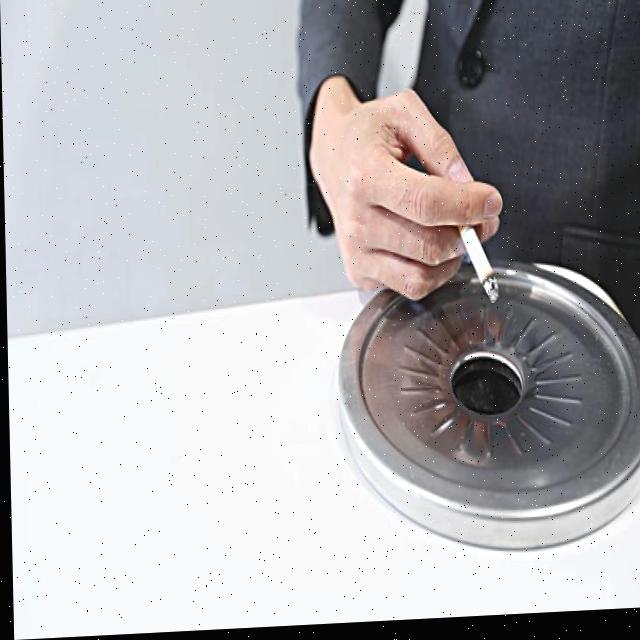cigarette: (457, 230, 499, 310)
